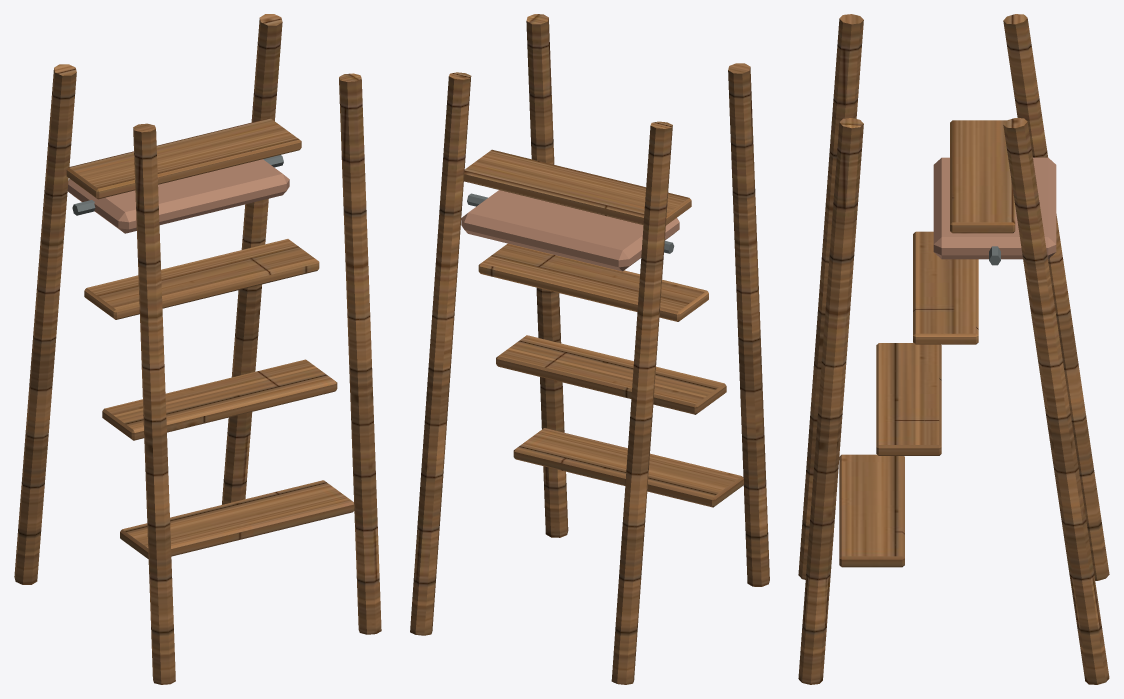
The model's file is observer_chair.glb.
3 renders of one model, left to right at view 1: azimuth 30°, elevation 25°; view 2: azimuth 150°, elevation 25°; view 3: azimuth 270°, elevation 25°, orthographic. The views are drawn at different scales.
Parts seen in each view (by area): view 1: observer_chair_oak, observer_chair_leather; view 2: observer_chair_oak, observer_chair_leather; view 3: observer_chair_oak, observer_chair_leather.
Part boxes in pixels (<box>): observer_chair_oak: <box>14,14,381,684</box>; observer_chair_leather: <box>67,159,289,233</box>; observer_chair_oak: <box>410,14,769,684</box>; observer_chair_leather: <box>461,190,679,271</box>; observer_chair_oak: <box>798,14,1109,684</box>; observer_chair_leather: <box>933,157,1056,259</box>.
Bounding box in the file's own units: 0.66 × 1.51 × 0.7597.
Materials: 3 (1 with a texture image).
